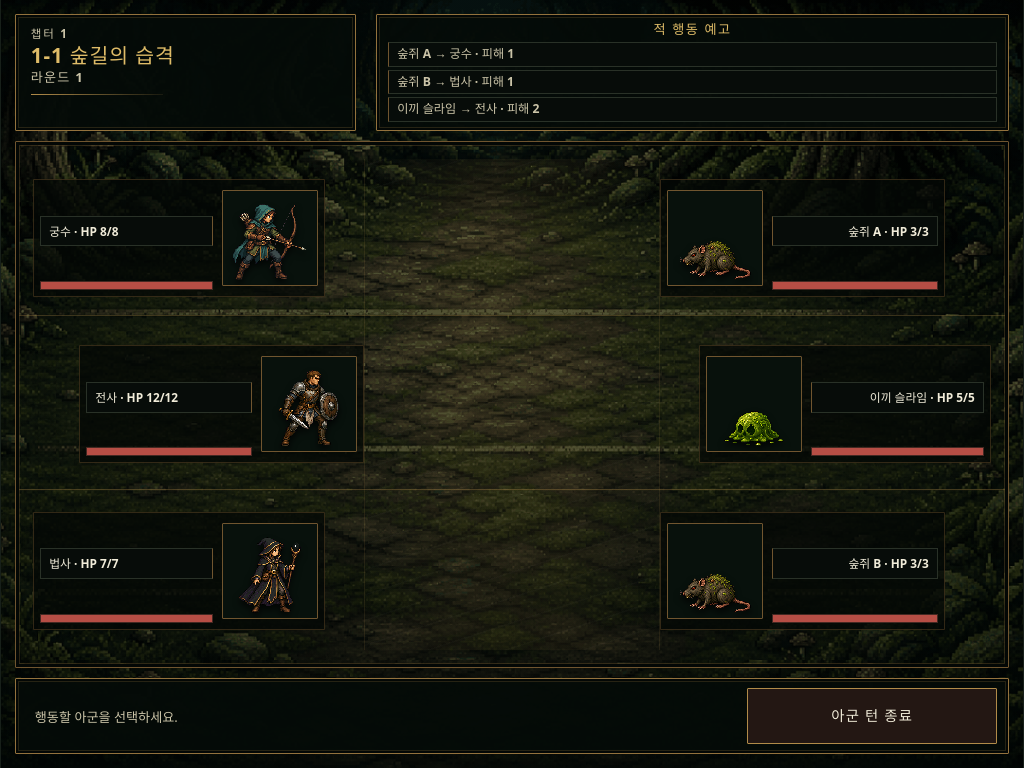
BattleScreen › advances the round and resolves only living enemy intents
Click the button named "궁수 선택" at (270, 238), box [222,190,318,286]
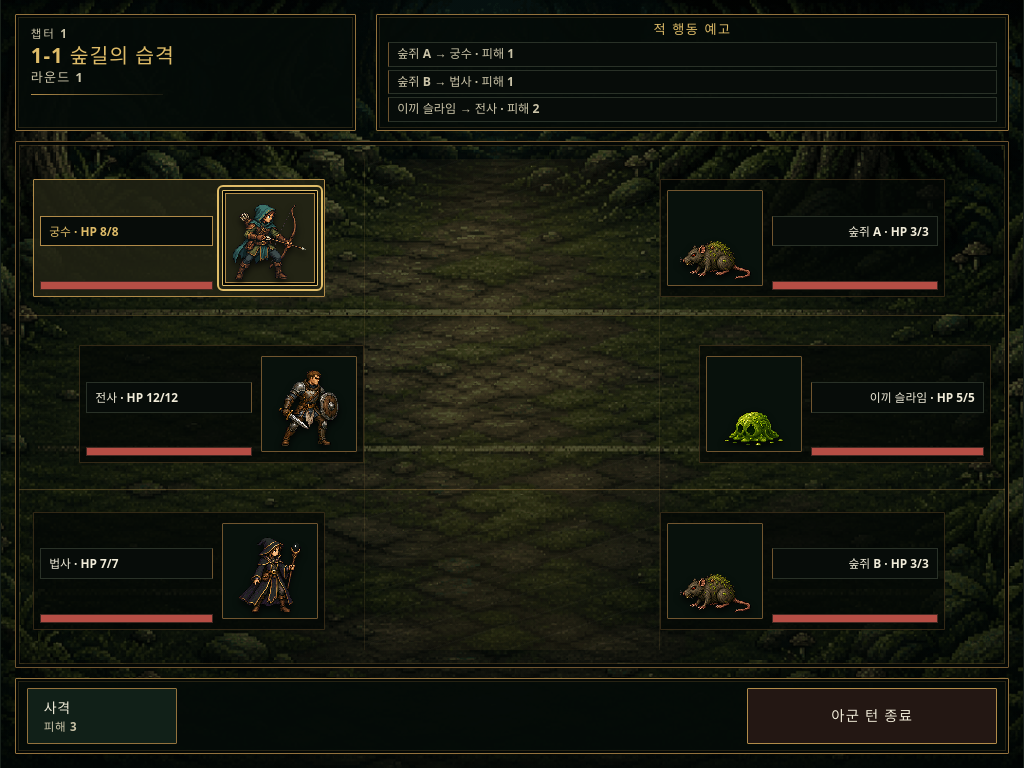
Click the button with aria-label "사격 선택" at (102, 716), box [27,688,177,744]
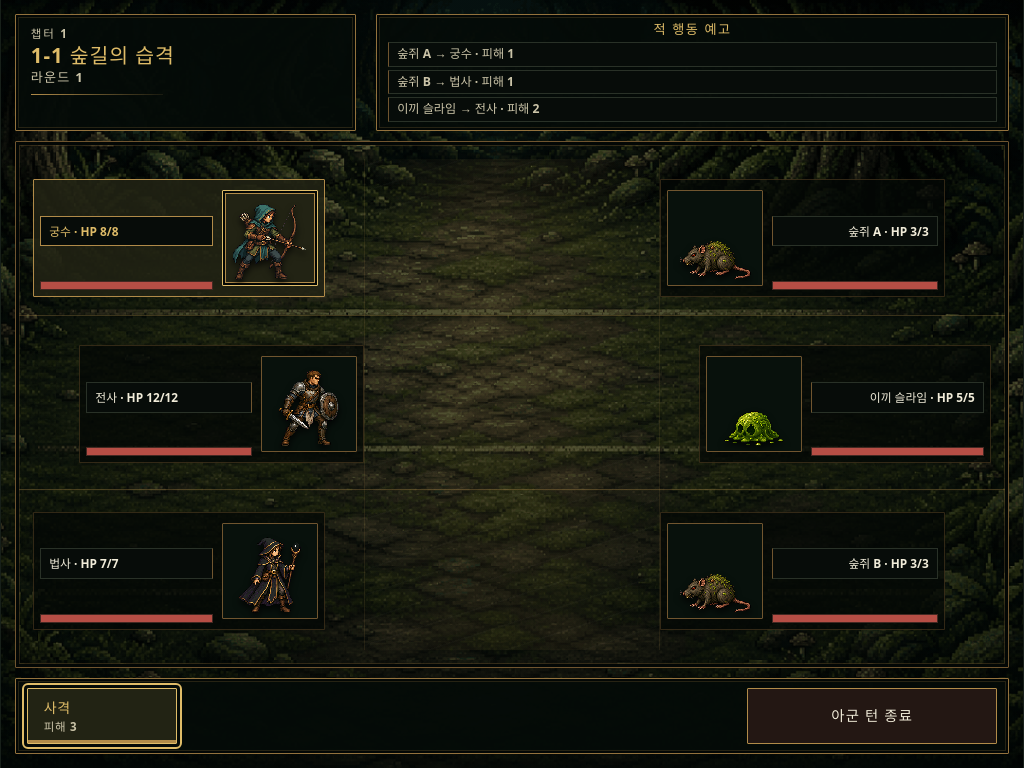
Click the button named "숲쥐 A 공격" at (715, 238), box [667,190,763,286]
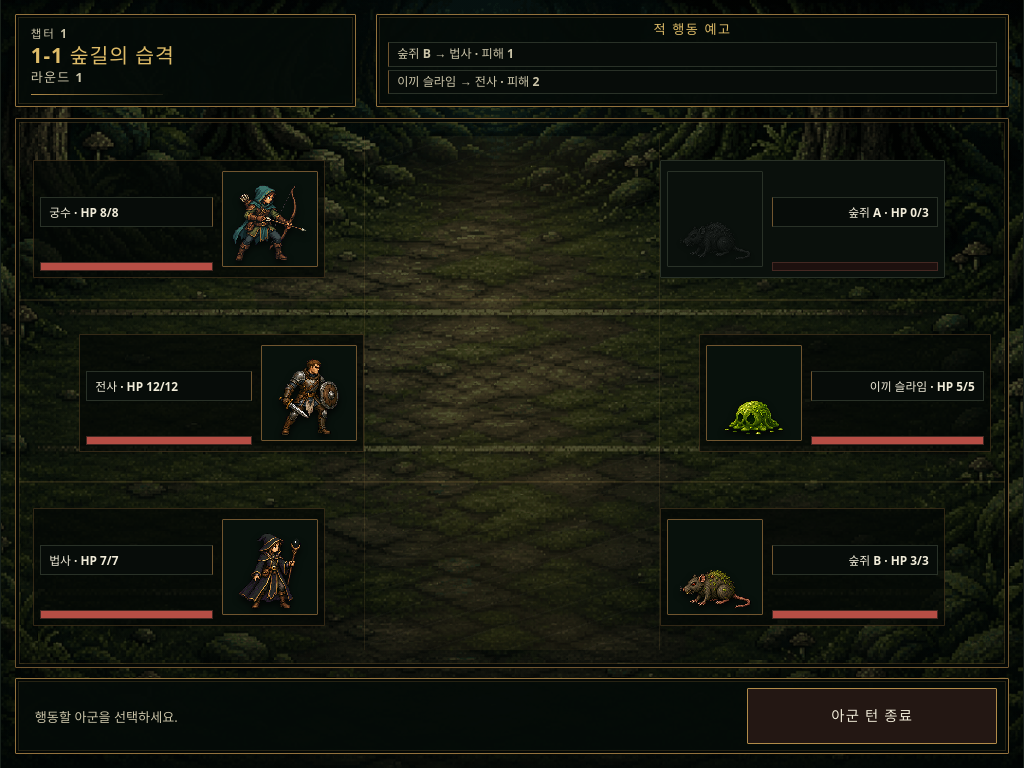
Click the button "아군 턴 종료" at (872, 716), box [747,688,997,744]
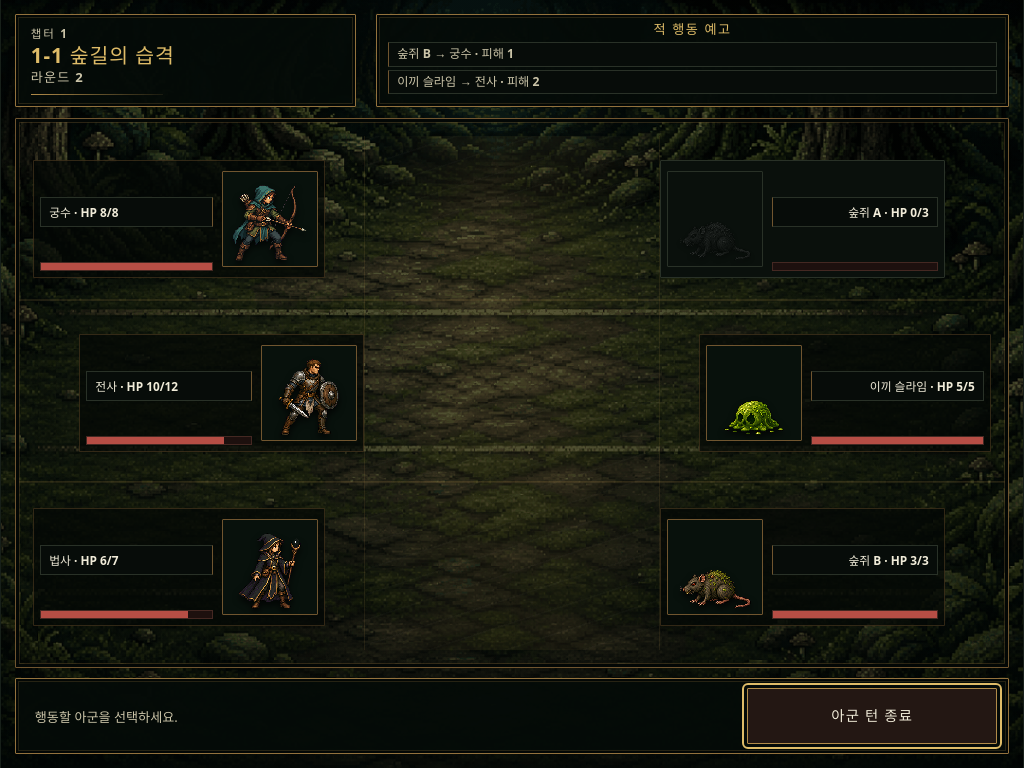
Check: the text "라운드 2" is shown, box [31,68,84,86]
Check: the list item "숲쥐 B → 궁수 · 피해 1" is shown, box [388,42,997,66]
Check: the text "법사 · HP 6/7" is shown, box [40,545,213,575]
